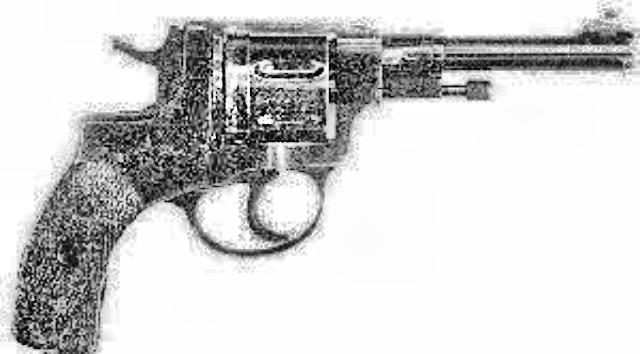pistol: (7, 6, 629, 351)
